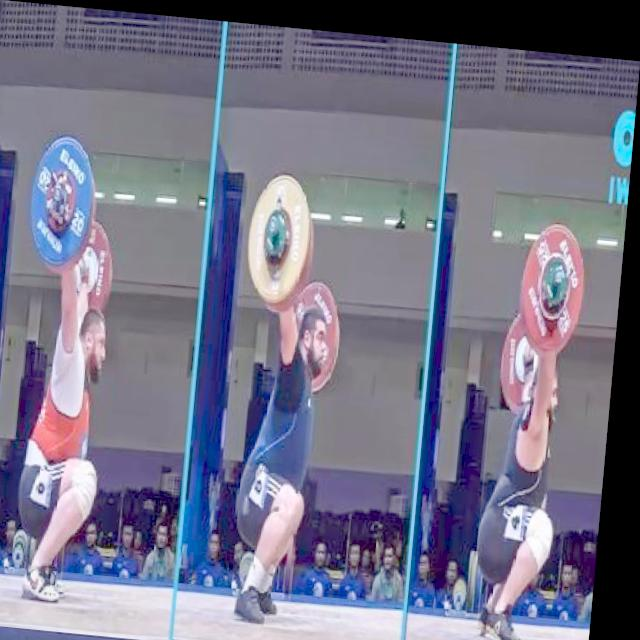barbell: (244, 158, 324, 304), (24, 128, 106, 270), (519, 205, 597, 344)
